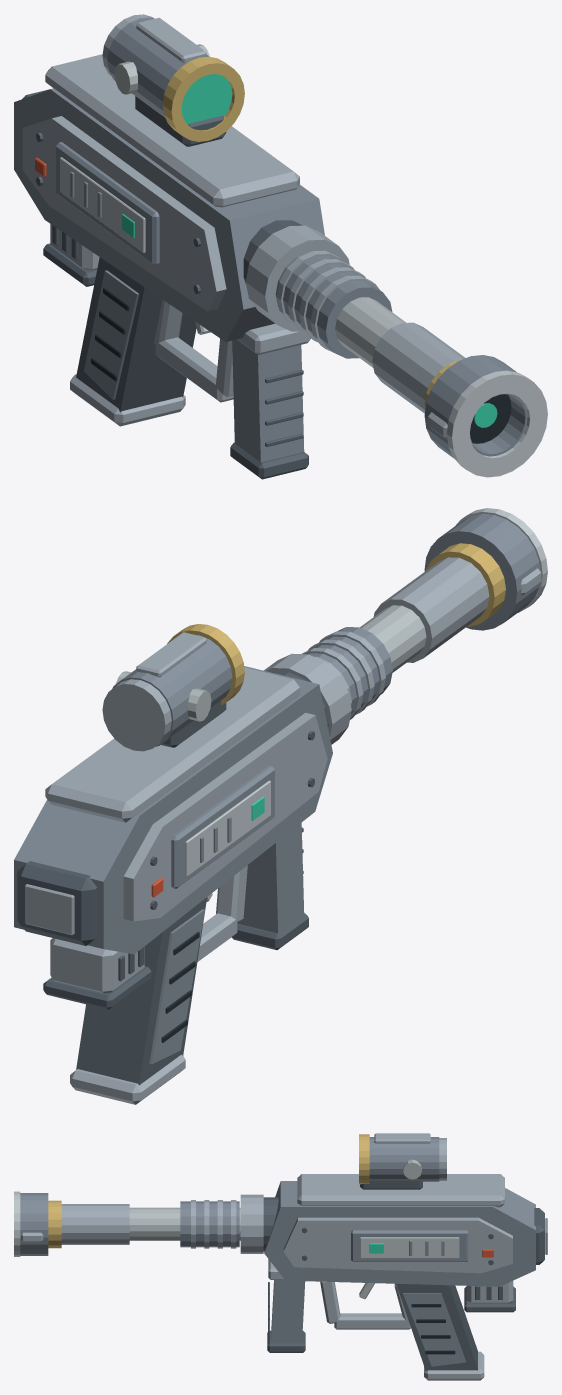
The model's file is beam_rifle.glb.
3 views of the same model, one above another, from view 1: azimuth 30°, elevation 25°; view 2: azimuth 150°, elevation 25°; view 3: azimuth 270°, elevation 25° (orthographic). The views are drawn at different scales.
Visible parts, largest first — view 1: Receiver_core, Top_cover, R_receiver_armor, Forward_handle, Main_grip, Muzzle_front_rim, Forward_barrel_sleeve, Emitter_housing, Barrel_collar, Rear_barrel_sleeve, Main_grip_side_R, Sensor_housing (+22 smaller); view 2: Receiver_core, Top_cover, R_receiver_armor, Main_grip, Forward_barrel_sleeve, Emitter_housing, Forward_handle, Sensor_housing, Sensor_rear_cap, Main_grip_side_R, Rear_cap, Energy_unit (+19 smaller); view 3: Receiver_core, L_receiver_armor, Top_cover, Forward_barrel_sleeve, Sensor_housing, Main_grip, Main_grip_side_L, Forward_handle, L_energy_panel, Rear_barrel_sleeve, Barrel_shaft, L_inset_frame (+17 smaller).
Part boxes in pixels (x1,y1,x2,y2): Receiver_core: [14, 88, 324, 341]; Top_cover: [45, 54, 299, 207]; R_receiver_armor: [22, 116, 226, 311]; Forward_handle: [232, 339, 304, 462]; Main_grip: [76, 257, 196, 412]; Muzzle_front_rim: [446, 370, 547, 477]; Forward_barrel_sleeve: [372, 322, 465, 413]; Emitter_housing: [424, 355, 527, 458]; Barrel_collar: [245, 225, 349, 331]; Rear_barrel_sleeve: [275, 250, 392, 358]; Main_grip_side_R: [84, 270, 139, 399]; Sensor_housing: [107, 17, 209, 117]; Receiver_core: [14, 666, 332, 954]; Top_cover: [45, 667, 299, 822]; R_receiver_armor: [123, 712, 327, 921]; Main_grip: [76, 897, 207, 1085]; Forward_barrel_sleeve: [373, 557, 489, 662]; Emitter_housing: [424, 513, 540, 630]; Forward_handle: [237, 823, 304, 933]; Sensor_housing: [112, 635, 232, 746]; Sensor_rear_cap: [102, 679, 171, 751]; Main_grip_side_R: [149, 909, 204, 1064]; Rear_cap: [17, 861, 97, 945]; Energy_unit: [50, 938, 144, 993]; Receiver_core: [264, 1181, 535, 1286]; L_receiver_armor: [283, 1217, 512, 1273]; Top_cover: [297, 1174, 504, 1207]; Forward_barrel_sleeve: [61, 1204, 129, 1244]; Sensor_housing: [369, 1137, 439, 1181]; Main_grip: [396, 1283, 477, 1371]; Main_grip_side_L: [403, 1293, 465, 1366]; Forward_handle: [271, 1280, 305, 1343]; L_energy_panel: [360, 1237, 459, 1258]; Rear_barrel_sleeve: [180, 1201, 239, 1247]; Barrel_shaft: [129, 1207, 240, 1240]; L_inset_frame: [351, 1230, 468, 1261].
Size of the model in its own units: 0.1884 by 0.5435 by 1.12.
